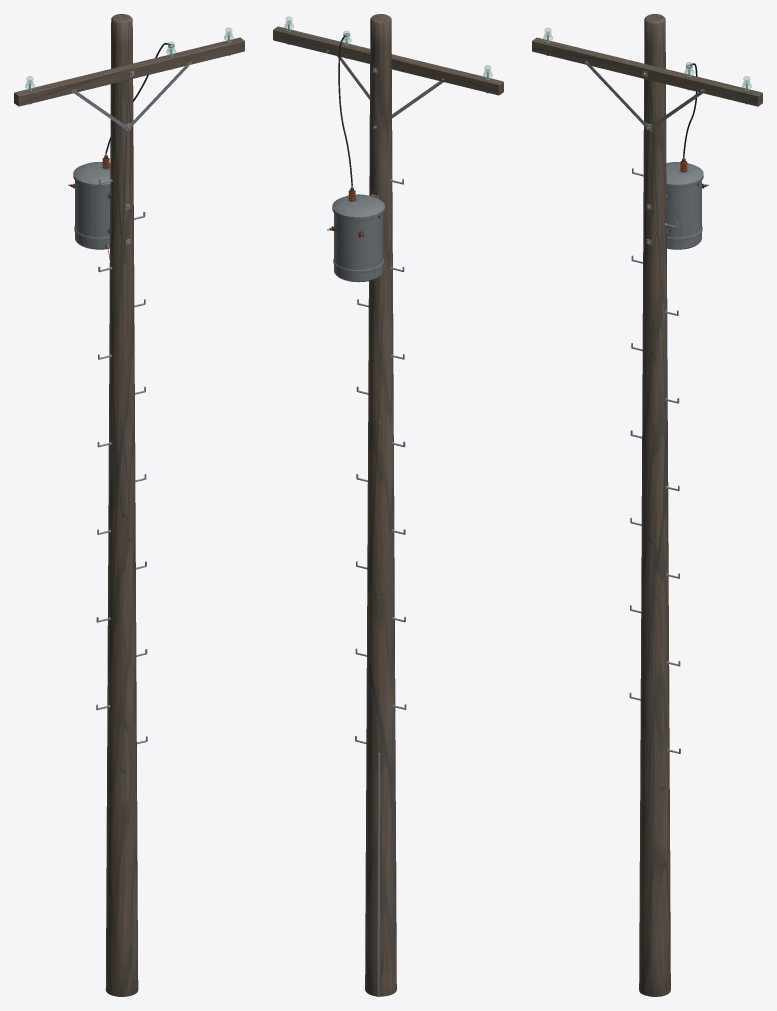
Rendered from utility-pole.glb.
3 renders of one model, left to right at view 1: azimuth 30°, elevation 25°; view 2: azimuth 150°, elevation 25°; view 3: azimuth 330°, elevation 25°, orthographic.
Visible parts, largest first — view 1: utility-pole_shaft, utility-pole_body; view 2: utility-pole_shaft, utility-pole_body; view 3: utility-pole_shaft, utility-pole_body.
Boxes of the visible parts, x1,y1,x2,y2 form: utility-pole_shaft: (105,14,138,996); utility-pole_body: (14,35,244,744); utility-pole_shaft: (365,14,396,996); utility-pole_body: (273,24,503,996); utility-pole_shaft: (639,14,670,996); utility-pole_body: (532,35,762,753).
Bounding box in the file's own units: 2.44 × 10 × 0.9043.
3 materials, 2 textured.
